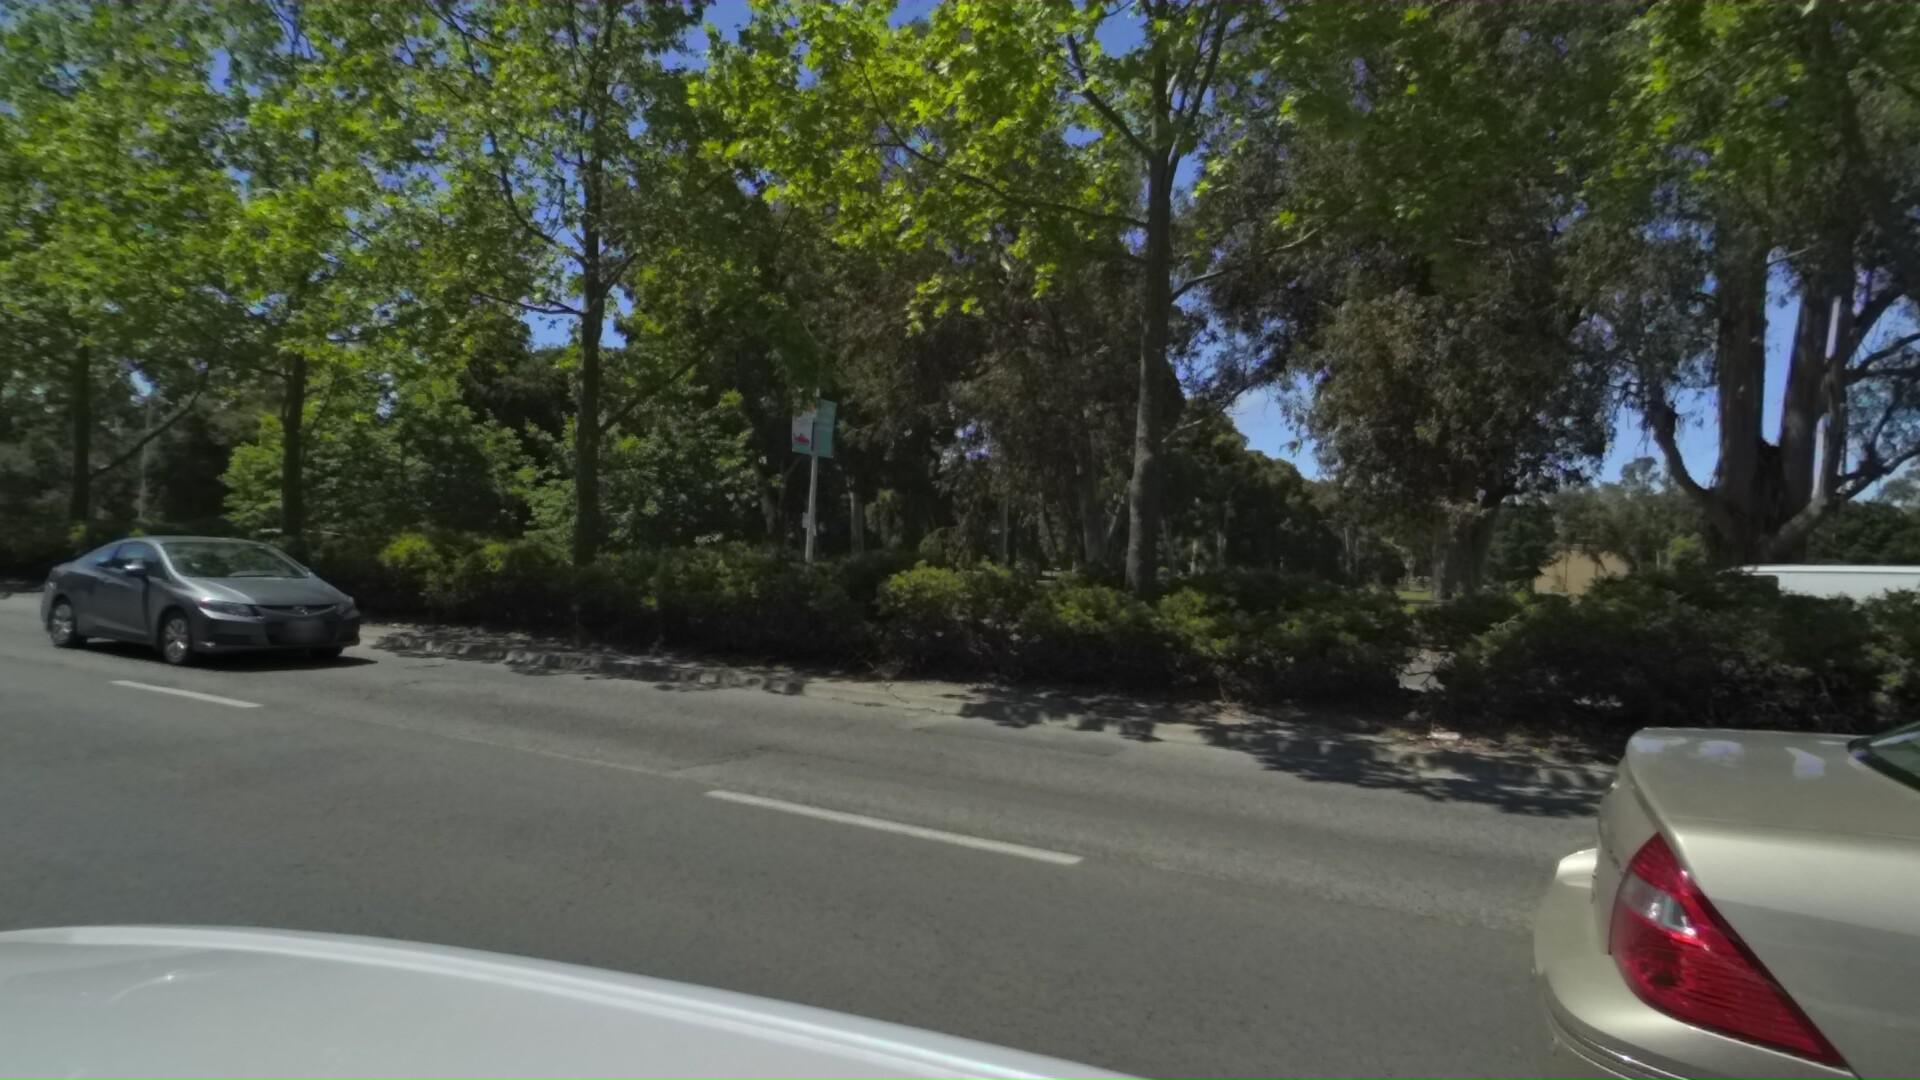car: (22, 524, 393, 682), (1534, 550, 1920, 698)
